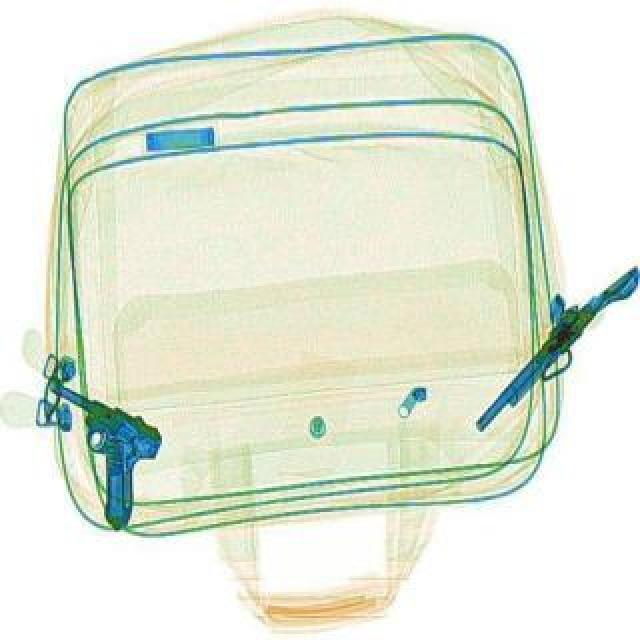gun: (476, 266, 640, 442), (2, 374, 178, 526)
